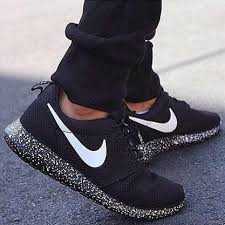nike: (41, 94, 116, 184), (121, 106, 189, 140)
